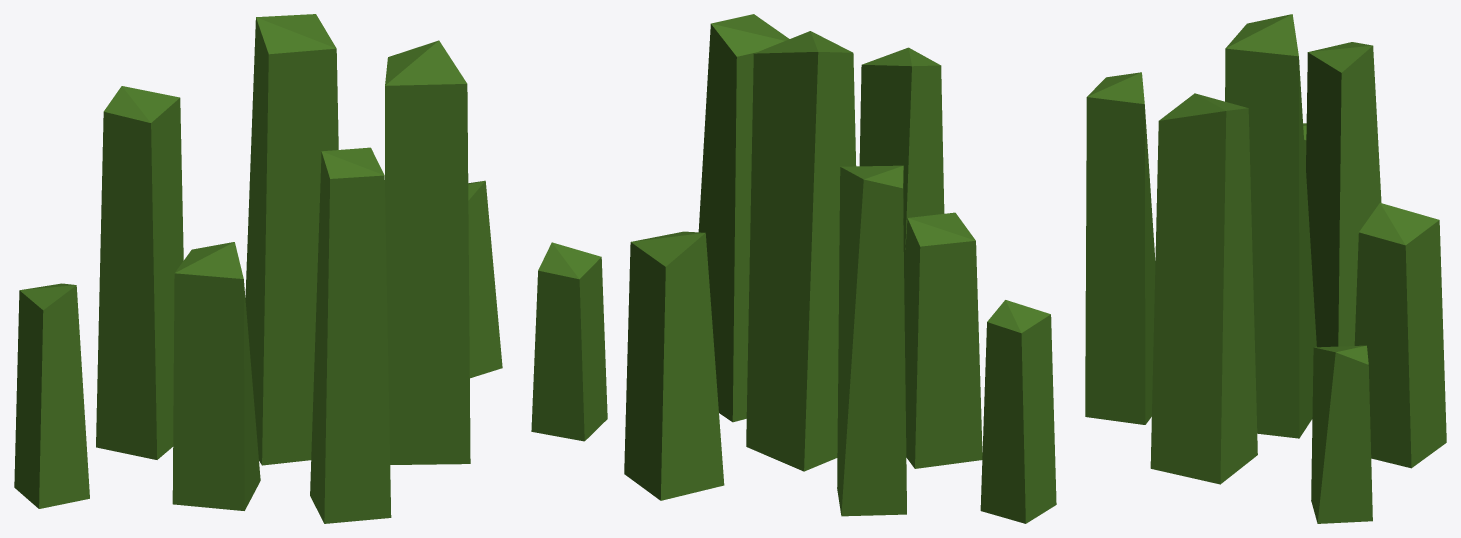
The model's file is Grass_2-transformed.glb.
3 renders of one model, left to right at view 1: azimuth 30°, elevation 25°; view 2: azimuth 150°, elevation 25°; view 3: azimuth 270°, elevation 25°, orthographic. The views are drawn at different scales.
Visible parts, largest first — view 1: Grass_2; view 2: Grass_2; view 3: Grass_2.
Part boxes in pixels (x1,y1,x2,y2): Grass_2: (14,14,502,523); Grass_2: (531,14,1056,523); Grass_2: (1085,14,1446,523).
Size of the model in its own units: 1.7 by 1.4 by 1.17.
Materials: 1 (1 with a texture image).
